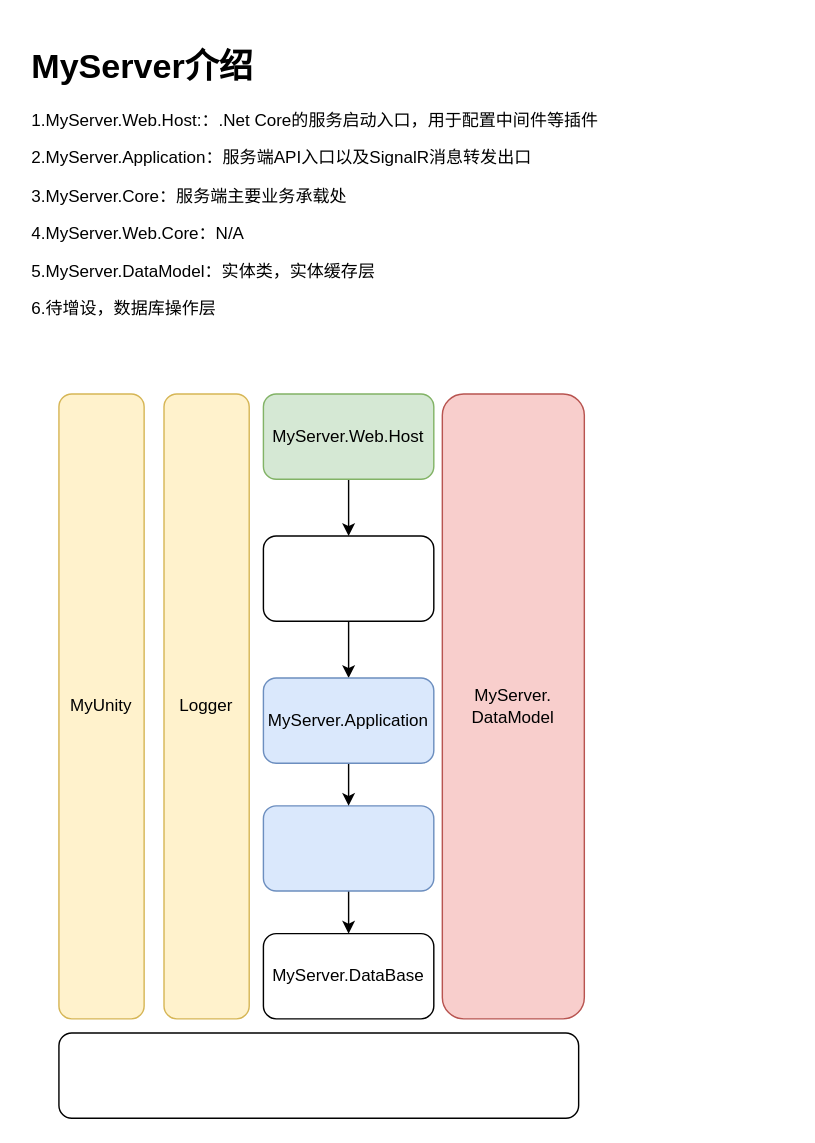
This 815x1143 diagram has some shape labels left out. Each missing label, with the centre of its shape:
DataBase: (x=318, y=1075)
MyServer.Core: (x=348, y=847)
MyServer.Web.Core: (x=348, y=578)
